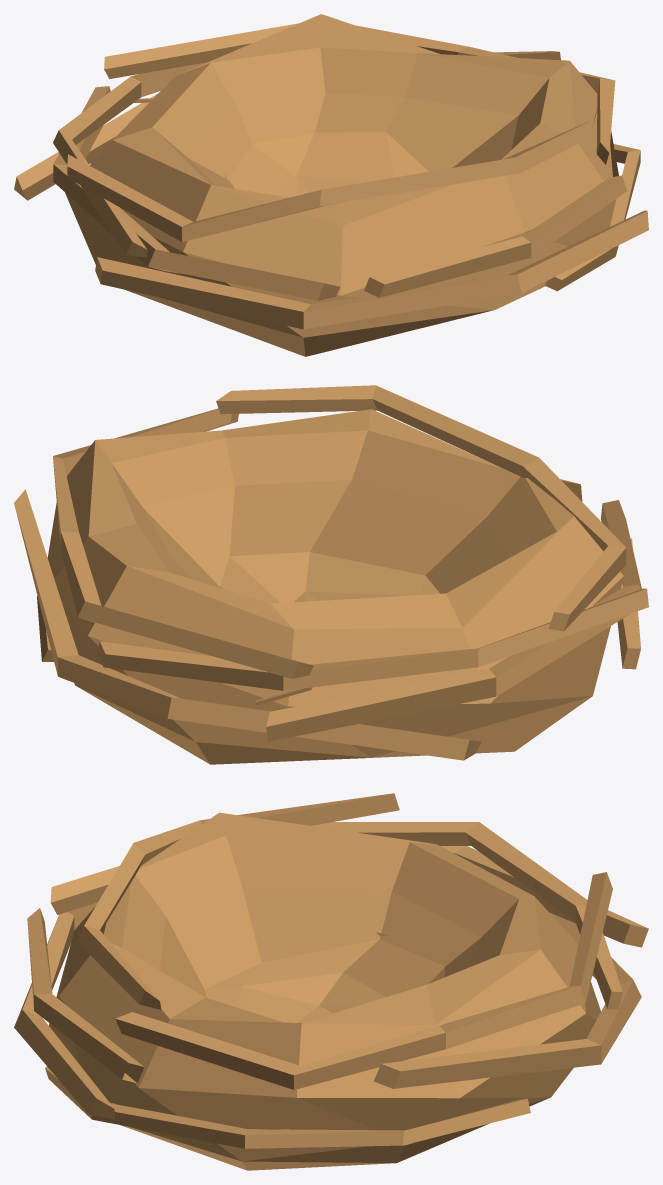
File: nest_interactable.fbx
3 renders of one model, top to bottom at view 1: azimuth 30°, elevation 25°; view 2: azimuth 150°, elevation 25°; view 3: azimuth 270°, elevation 25°, orthographic. The views are drawn at different scales.
Parts seen in each view (by area): view 1: nest_interactable; view 2: nest_interactable; view 3: nest_interactable.
Boxes of the visible parts, box(x1,y1,x2,y2) form: nest_interactable: box(14, 14, 648, 356); nest_interactable: box(14, 385, 648, 764); nest_interactable: box(14, 793, 648, 1170).
Bounding box in the file's own units: 165 × 56.06 × 159.
